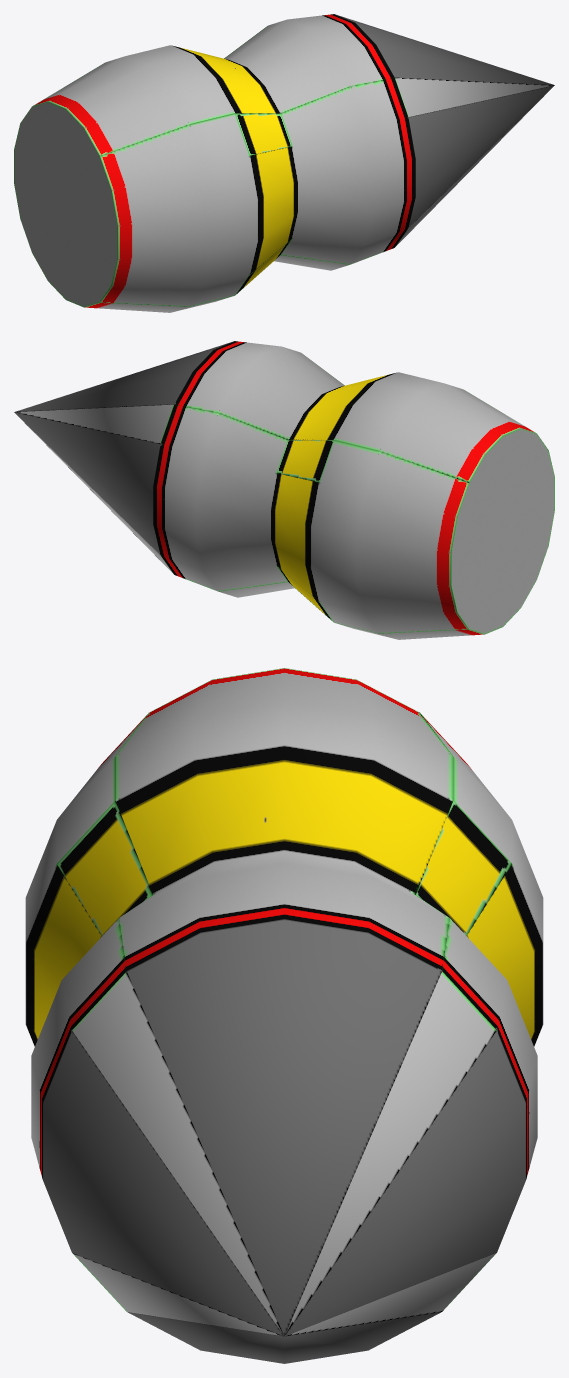
File: missileFBXtest.FBX
The picture shows the model from 3 angles, top to bottom: view 1: azimuth 30°, elevation 25°; view 2: azimuth 150°, elevation 25°; view 3: azimuth 270°, elevation 25°; orthographic projection. The views are drawn at different scales.
Parts seen in each view (by area): view 1: Cylinder001; view 2: Cylinder001; view 3: Cylinder001.
Part boxes in pixels (<box>): Cylinder001: <box>14,14,554,312</box>; Cylinder001: <box>14,341,554,639</box>; Cylinder001: <box>25,668,543,1363</box>.
Size of the model in its own units: 63.1 by 29.36 by 28.92.
Materials: 1 (1 with a texture image).
